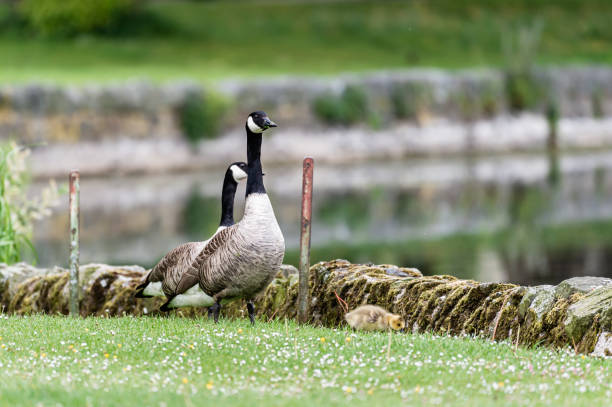goose: (164, 110, 287, 327), (125, 160, 269, 321)
